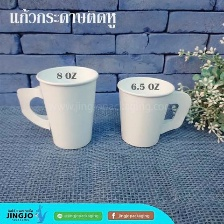paper_cup: (11, 61, 102, 153), (111, 71, 196, 152)
